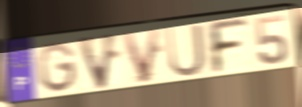5: (254, 12, 288, 67)
F: (204, 17, 251, 76)
G: (36, 41, 79, 95)
U: (164, 22, 208, 80)
V: (75, 31, 121, 92), (120, 26, 163, 86)
